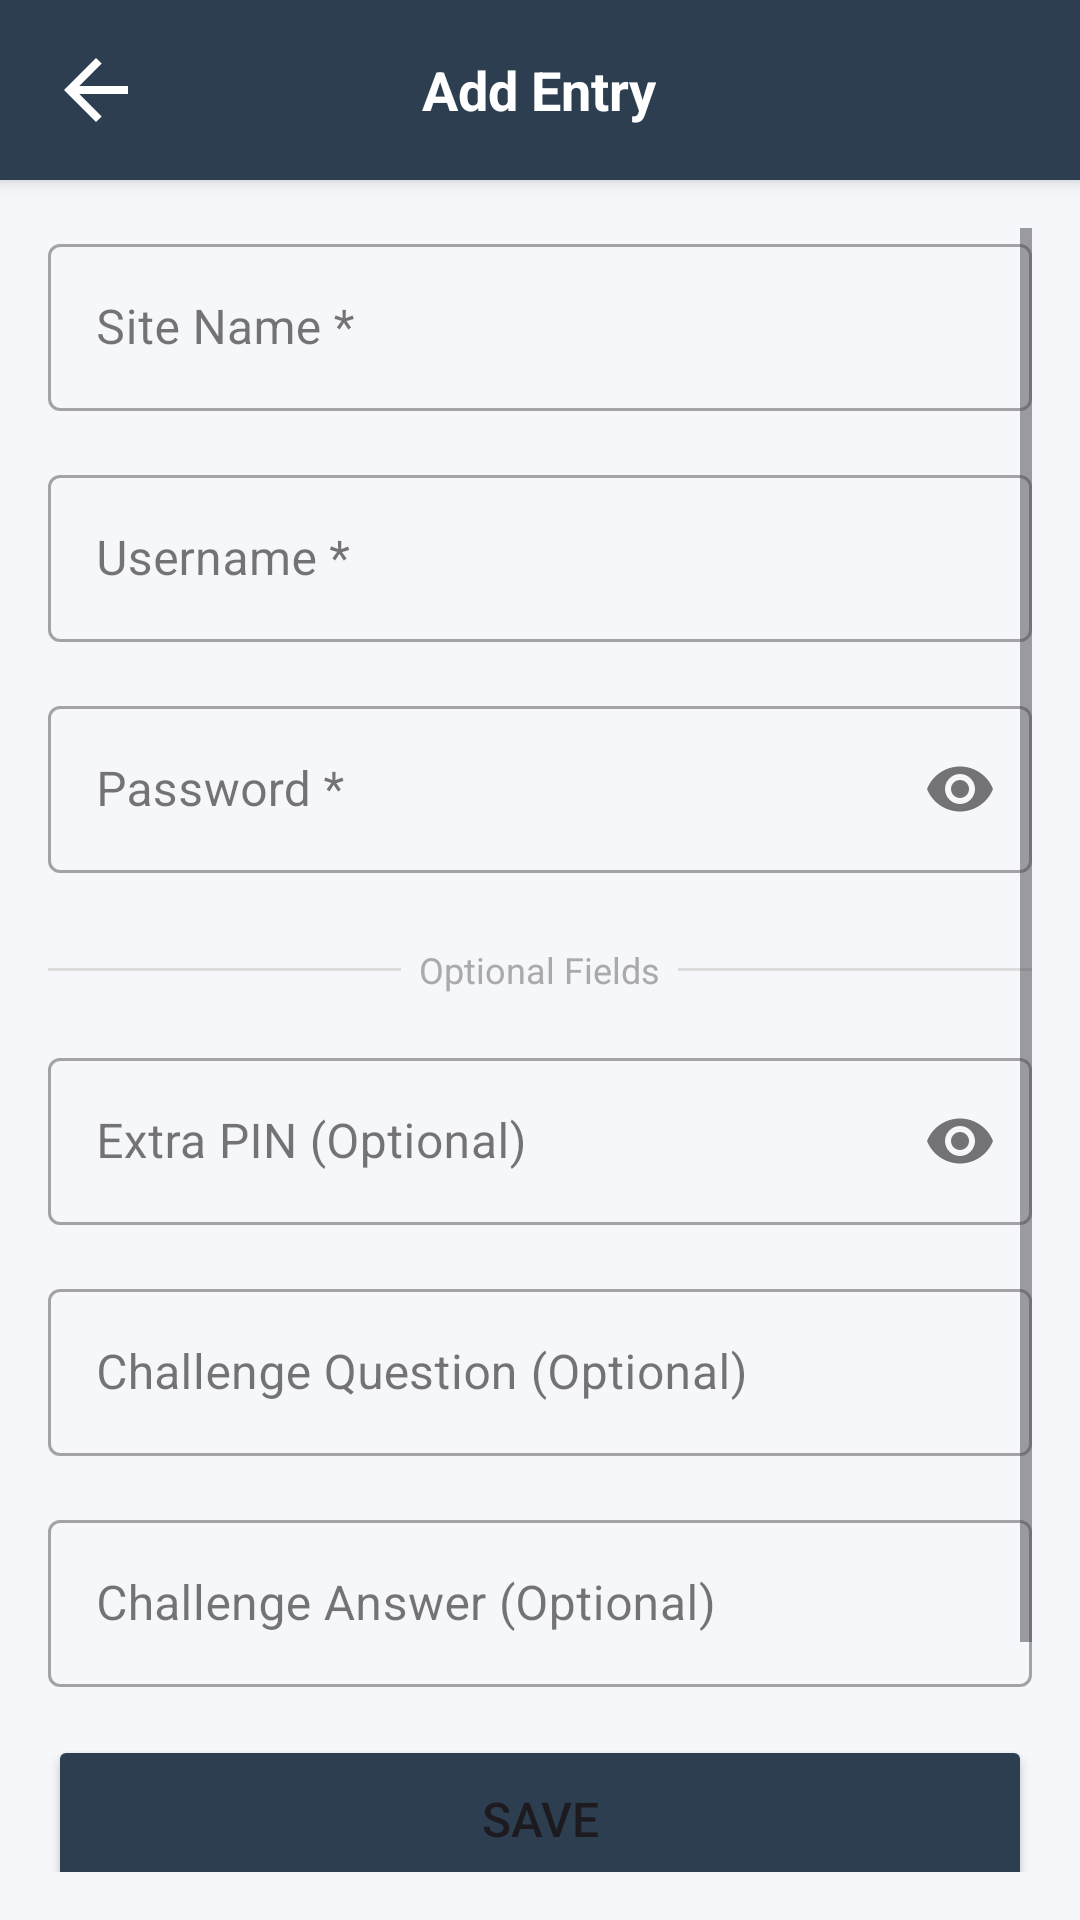

Where icons sit on this 1080w x 1920h app screen, as bbox(x1, y1, x2, y2):
arrow back: bbox(64, 58, 128, 122)
